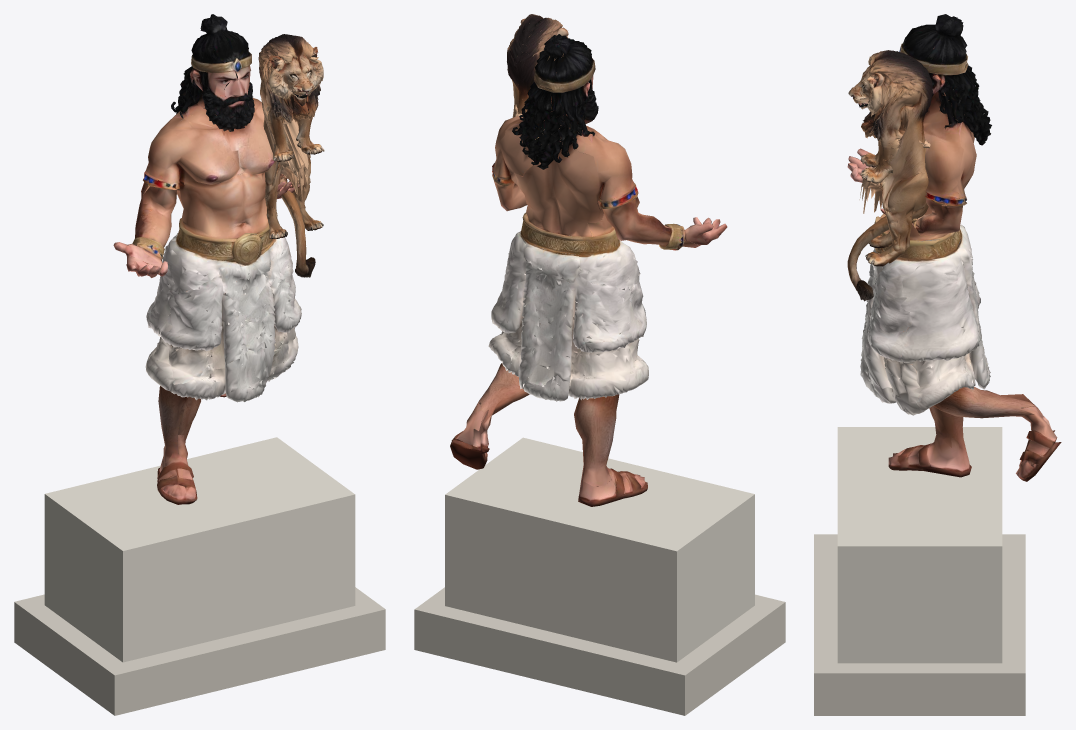
File: gilgamesh_statue.glb
3 views of the same model, side by side, from view 1: azimuth 30°, elevation 25°; view 2: azimuth 150°, elevation 25°; view 3: azimuth 270°, elevation 25° (orthographic). The views are drawn at different scales.
Visible parts, largest first — view 1: gilgamesh_statue; view 2: gilgamesh_statue; view 3: gilgamesh_statue.
Part boxes in pixels (bbox=[...]): gilgamesh_statue: bbox=[14, 14, 385, 715]; gilgamesh_statue: bbox=[414, 14, 785, 715]; gilgamesh_statue: bbox=[814, 14, 1061, 715].
Bounding box in the file's own units: 2.8 × 6.05 × 2.11.
Materials: 4 (2 with a texture image).
